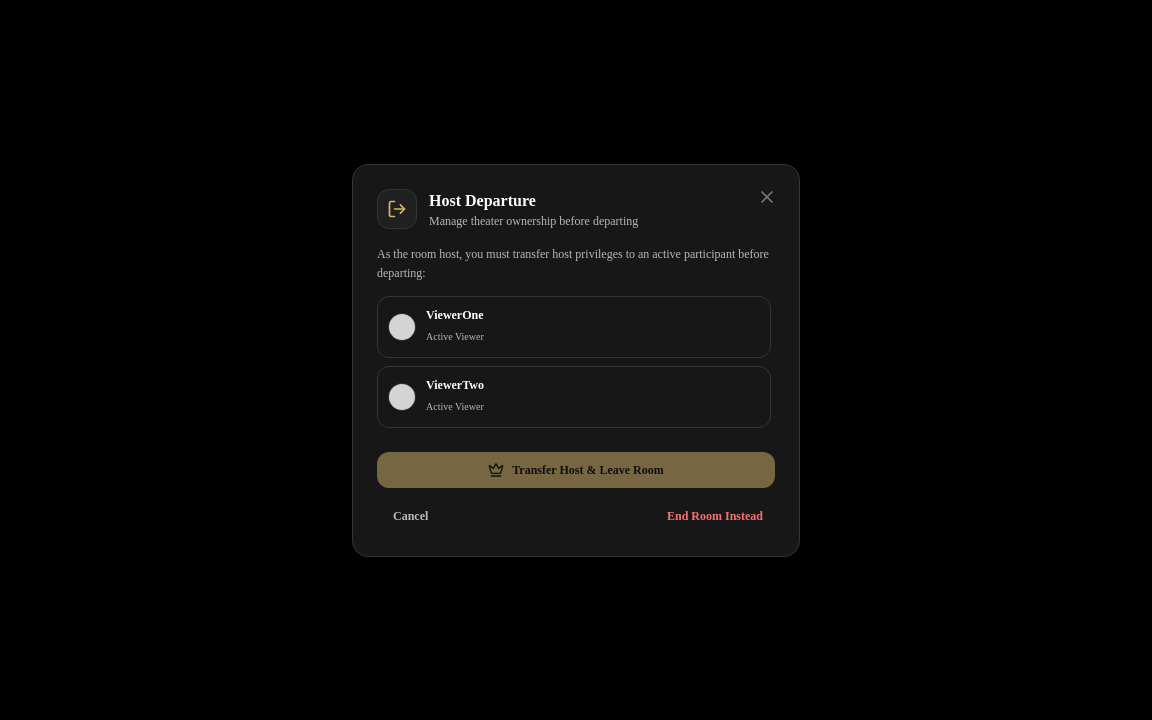
it: LeaveRoomModal & EndRoomModal Component Tests › LeaveRoomModal — Host Departure & Transfer › displays error feedback when host transfer fails without leaving
Step 1. Click the text "ViewerTwo" → (455, 384), box x1=426 y1=376 x2=484 y2=392
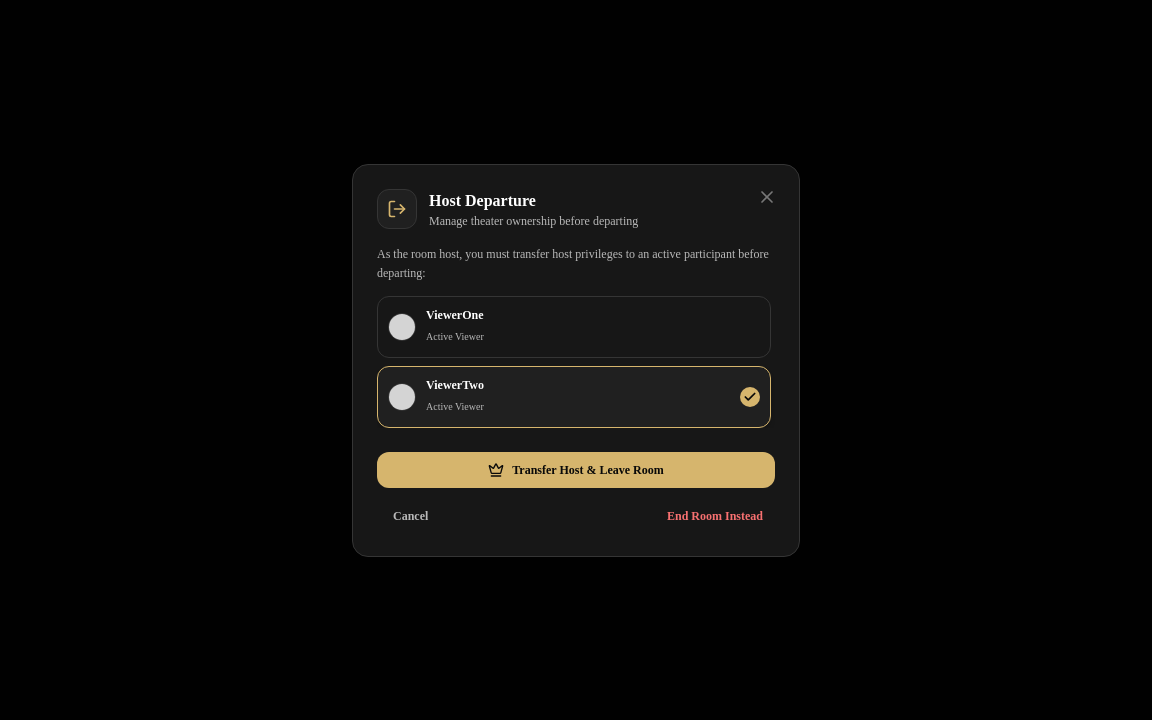
Step 2. Click the button "Transfer Host & Leave Room" → (576, 470), box x1=377 y1=452 x2=775 y2=488
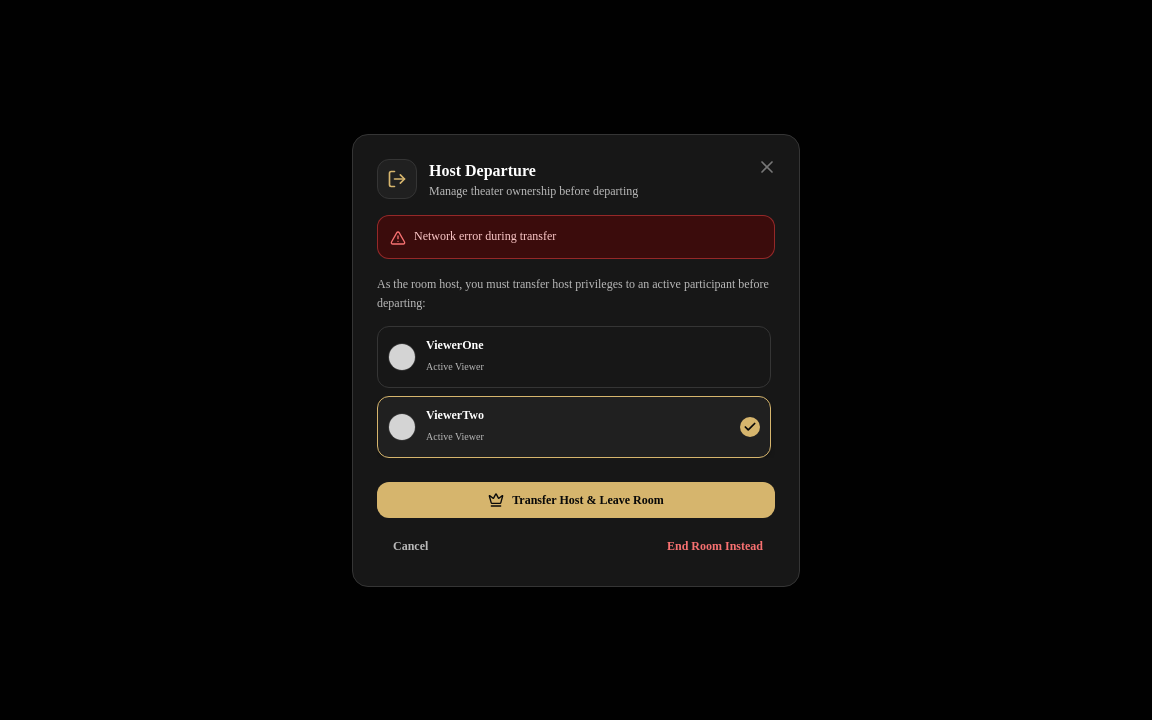
Expected: the text "Network error during transfer" is shown, x1=414 y1=228 x2=556 y2=244
